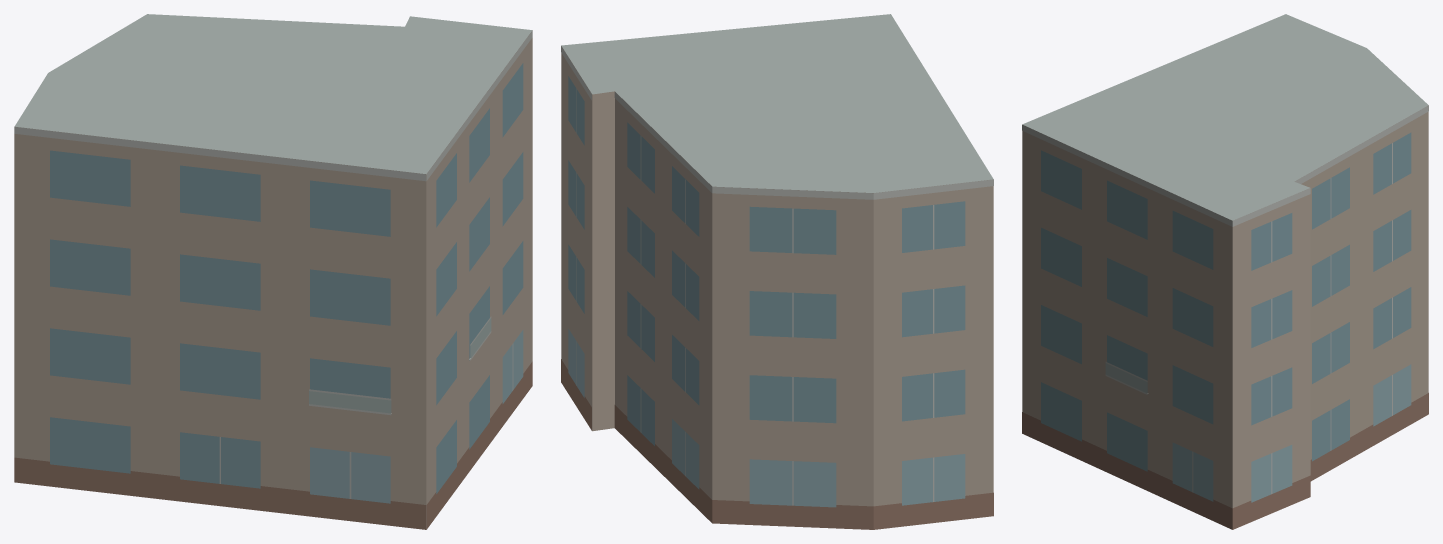
The model's file is survey-upis-32815258.glb.
The picture shows the model from 3 angles, left to right: view 1: azimuth 30°, elevation 25°; view 2: azimuth 150°, elevation 25°; view 3: azimuth 270°, elevation 25°; orthographic projection. The views are drawn at different scales.
Visible parts, largest first — view 1: survey-upis-32815258.tmp; view 2: survey-upis-32815258.tmp; view 3: survey-upis-32815258.tmp.
Part boxes in pixels (left/top/right/bottom): survey-upis-32815258.tmp: left=14, top=14, right=532, bottom=529; survey-upis-32815258.tmp: left=561, top=14, right=993, bottom=529; survey-upis-32815258.tmp: left=1022, top=14, right=1428, bottom=529.
Bounding box in the file's own units: 17.51 × 12.2 × 14.55.
